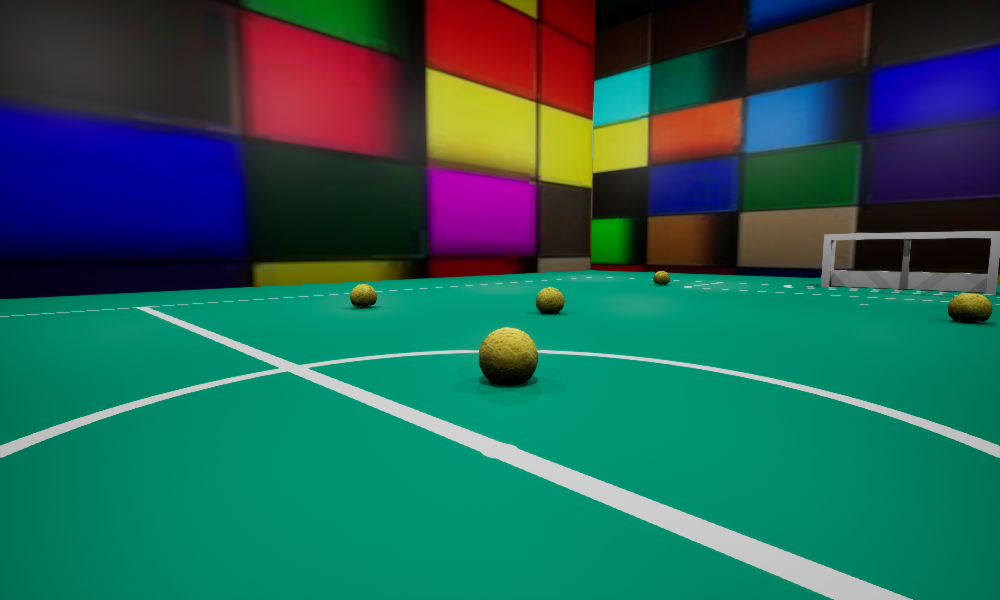b: (479, 327, 537, 384), (948, 293, 992, 322), (536, 287, 564, 313), (350, 284, 376, 307), (653, 271, 669, 284)
g: (821, 231, 999, 294)
